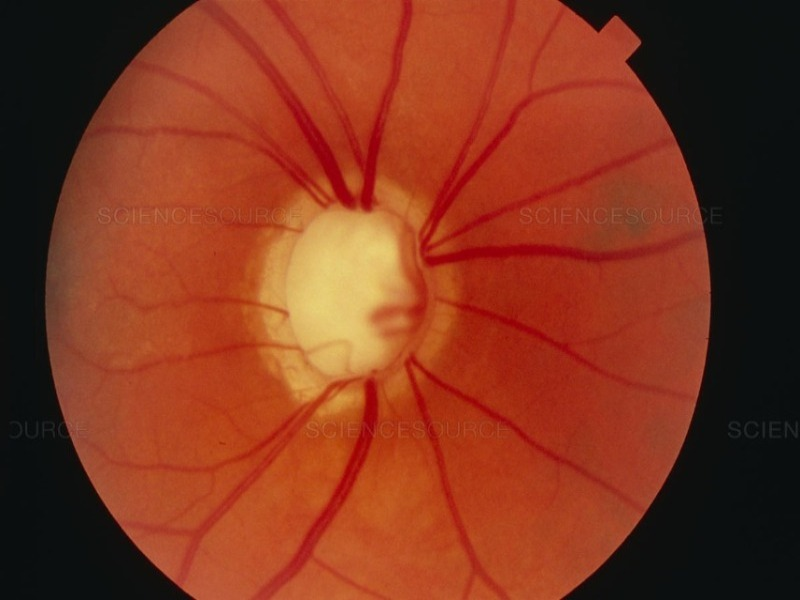Optic Cup: (289, 199, 399, 374)
Optic Disc: (259, 176, 457, 409)
